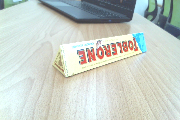Chocolate: (42, 28, 153, 79)
